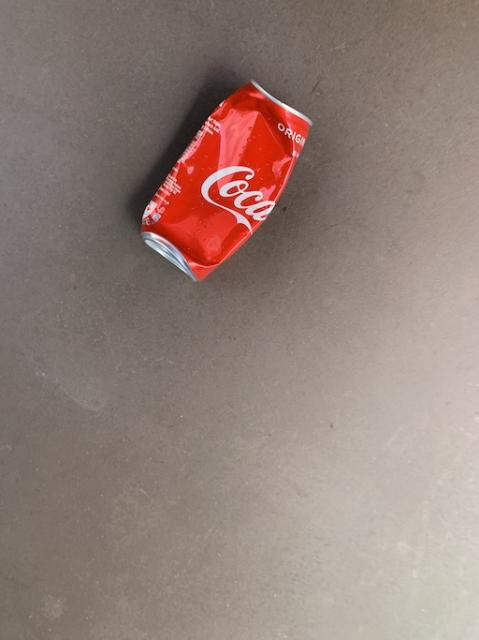metal: (141, 81, 310, 279)
